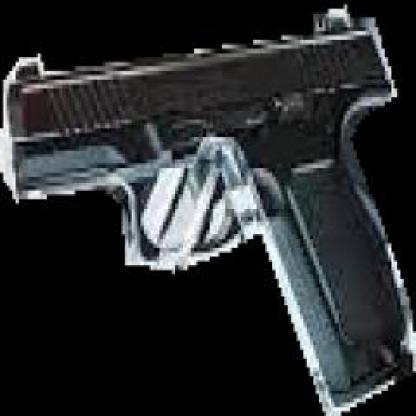handgun: (1, 4, 416, 416)
